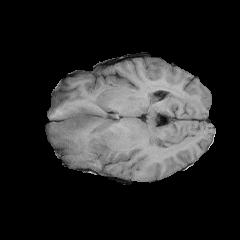glioma: (49, 117, 118, 160)
